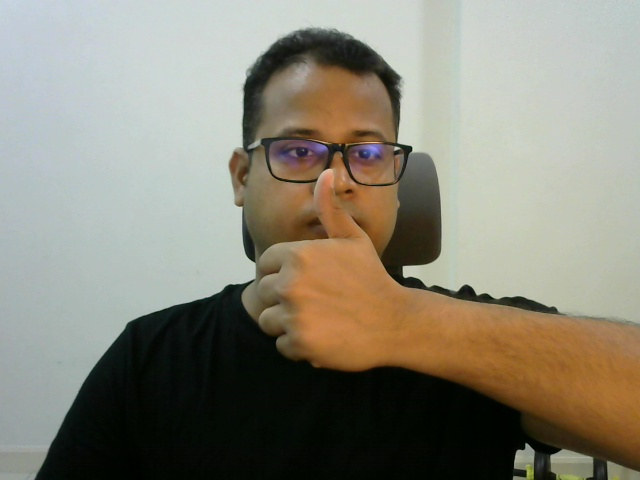ThumbsUp: (258, 168, 399, 373)
